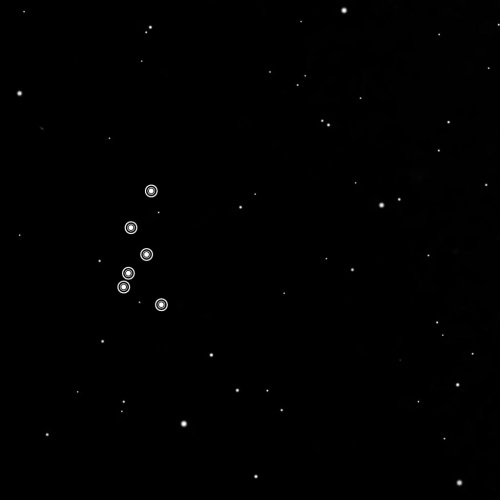cassiopeia: (113, 181, 172, 316)
